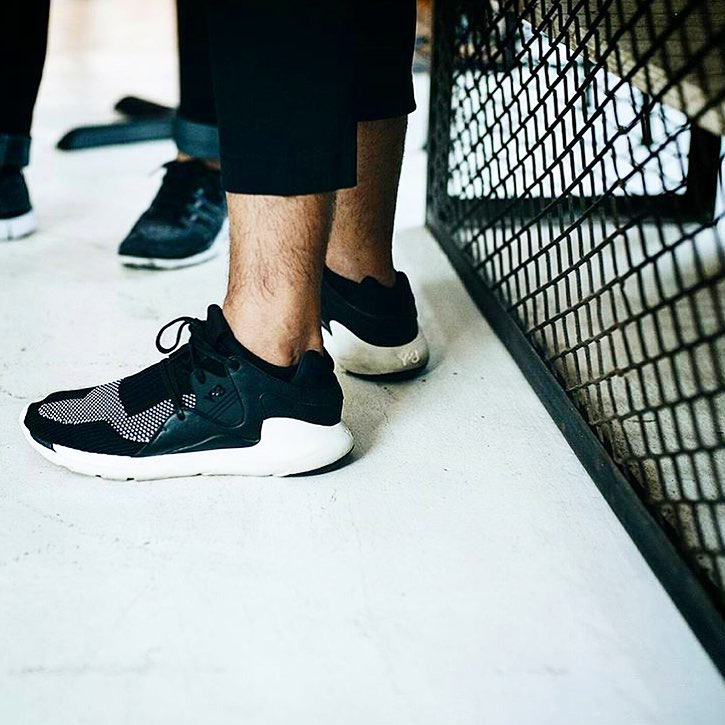sneaker: (1, 287, 374, 494), (296, 243, 444, 396)
